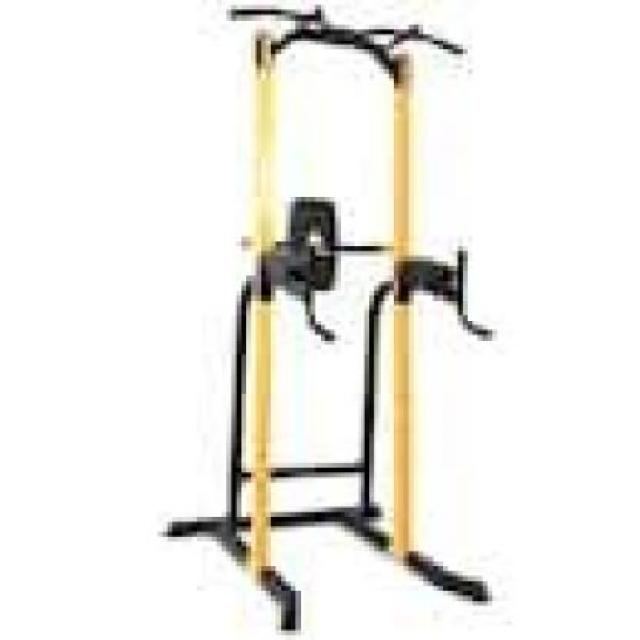chinning dipping: (167, 8, 496, 630)
